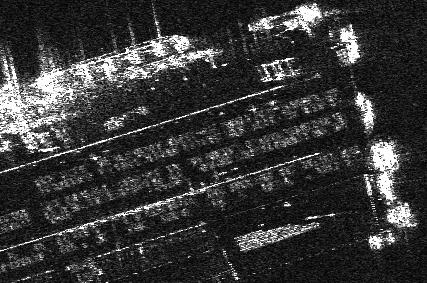ship: (35, 30, 191, 98)
